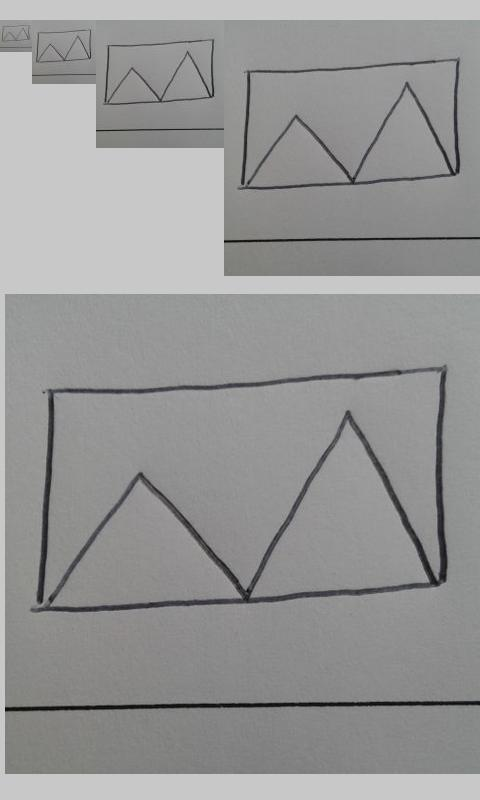image_view: (37, 362, 447, 613), (239, 57, 463, 192), (104, 39, 215, 106), (36, 29, 92, 63), (1, 24, 30, 42)
